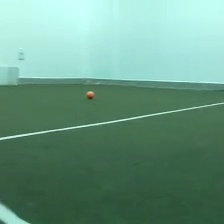ball: (85, 88, 95, 100)
goal: (1, 64, 20, 87)
